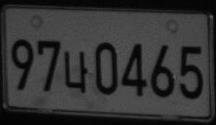0: (94, 41, 118, 94)
4: (120, 42, 147, 96)
5: (179, 46, 204, 100)
6: (149, 44, 175, 97)
7: (37, 39, 60, 91)
9: (10, 37, 34, 90)
나: (63, 50, 89, 93)
